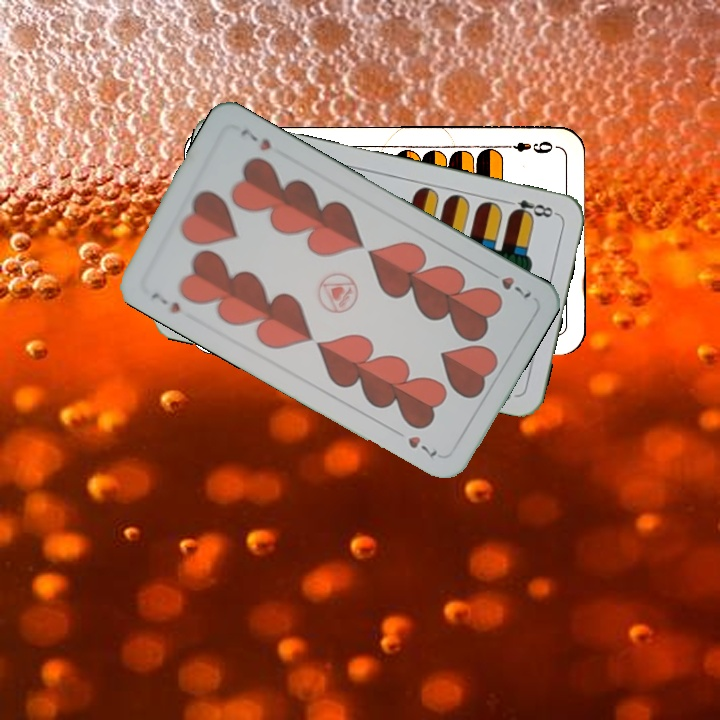E8: (500, 195, 559, 221)
E9: (499, 137, 555, 156)
H7: (482, 265, 534, 301), (147, 288, 184, 316)
